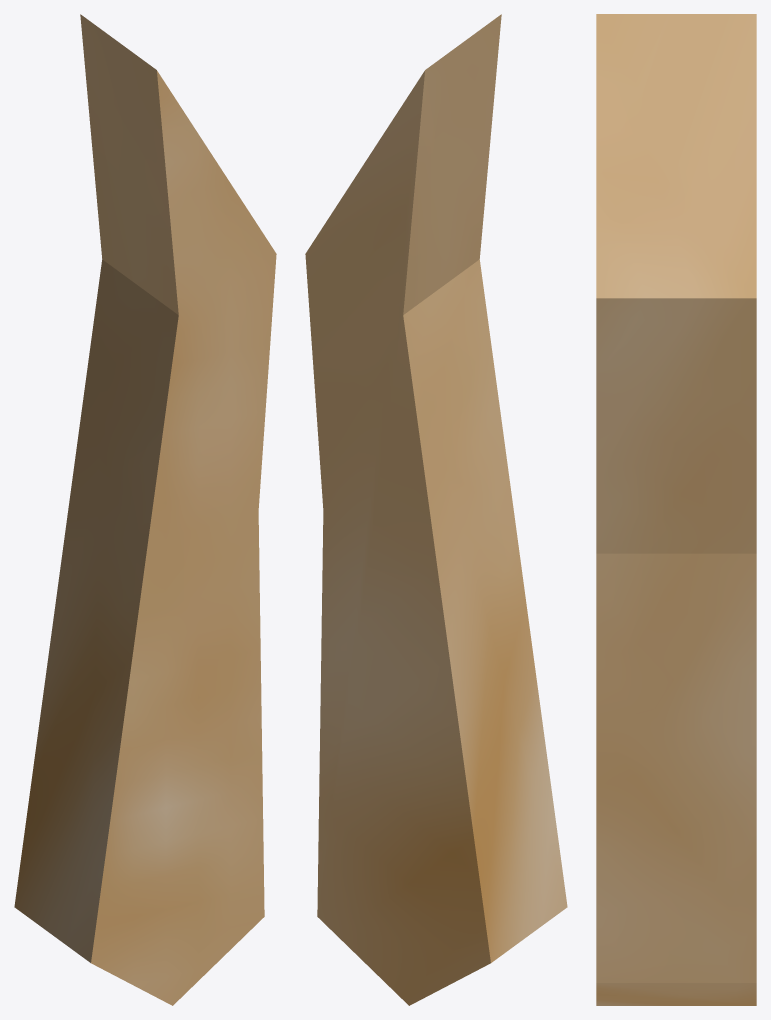
Rendered from feu01.fbx.
3 views of the same model, side by side, from view 1: azimuth 30°, elevation 25°; view 2: azimuth 150°, elevation 25°; view 3: azimuth 270°, elevation 25° (orthographic). The views are drawn at different scales.
Visible parts, largest first — view 1: T_Sc_Eglise.010; view 2: T_Sc_Eglise.010; view 3: T_Sc_Eglise.010.
Part boxes in pixels (x1,y1,x2,y2): T_Sc_Eglise.010: [14, 14, 276, 1005]; T_Sc_Eglise.010: [305, 14, 567, 1005]; T_Sc_Eglise.010: [596, 14, 756, 1005].
Size of the model in its own units: 2.8 by 13.54 by 2.
